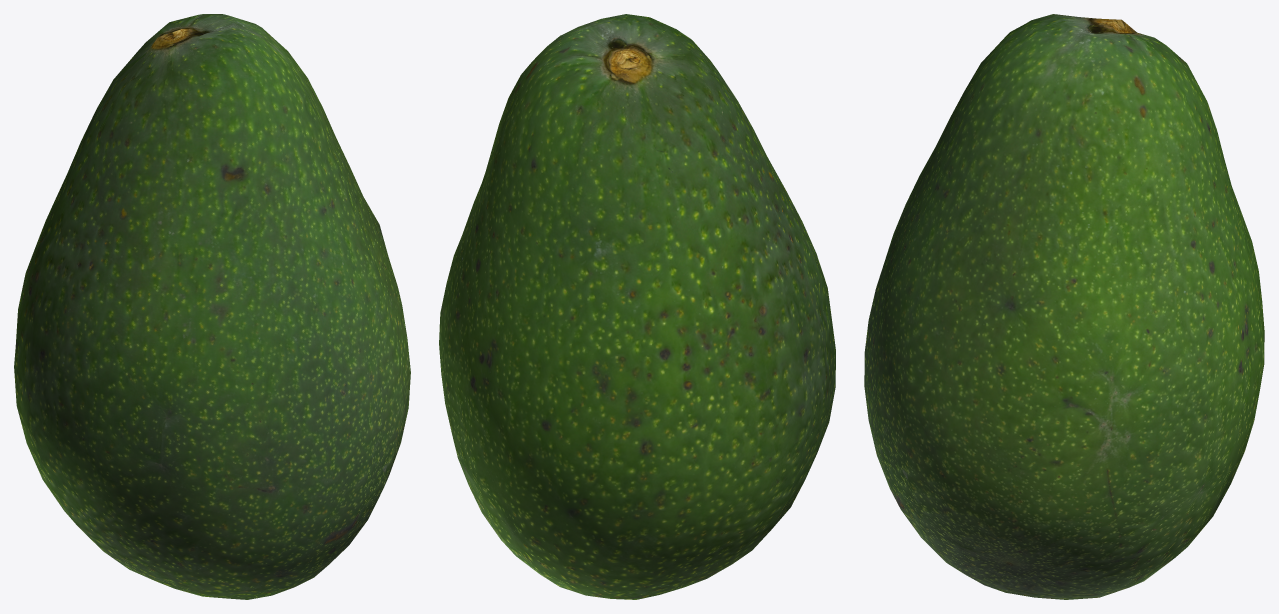
The model's file is avocado.glb.
3 renders of one model, left to right at view 1: azimuth 30°, elevation 25°; view 2: azimuth 150°, elevation 25°; view 3: azimuth 270°, elevation 25°, orthographic. The views are drawn at different scales.
Visible parts, largest first — view 1: Object_2; view 2: Object_2; view 3: Object_2.
Part boxes in pixels (box(x1,y1,x2,y2)): Object_2: box(14, 14, 410, 599); Object_2: box(439, 14, 835, 599); Object_2: box(864, 14, 1264, 599).
Size of the model in its own units: 10.06 by 15.41 by 9.95.
1 material, 1 textured.
